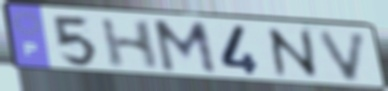4: (217, 22, 266, 79)
5: (49, 14, 101, 69)
H: (97, 17, 161, 71)
M: (149, 19, 220, 78)
N: (263, 26, 324, 80)
V: (315, 29, 372, 84)
